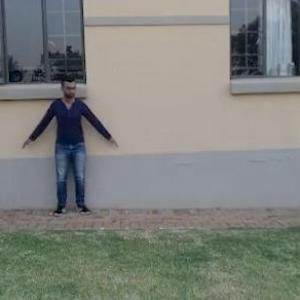land: (23, 77, 120, 226)
